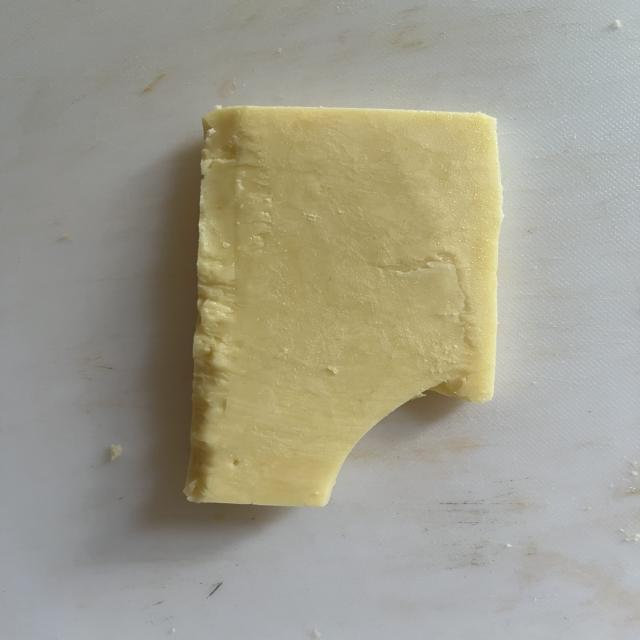cheese: (184, 107, 502, 506)
